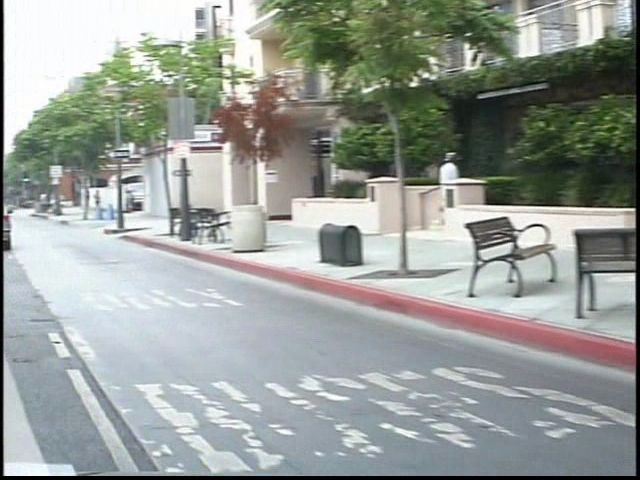person: (414, 146, 453, 235), (76, 182, 93, 216)
